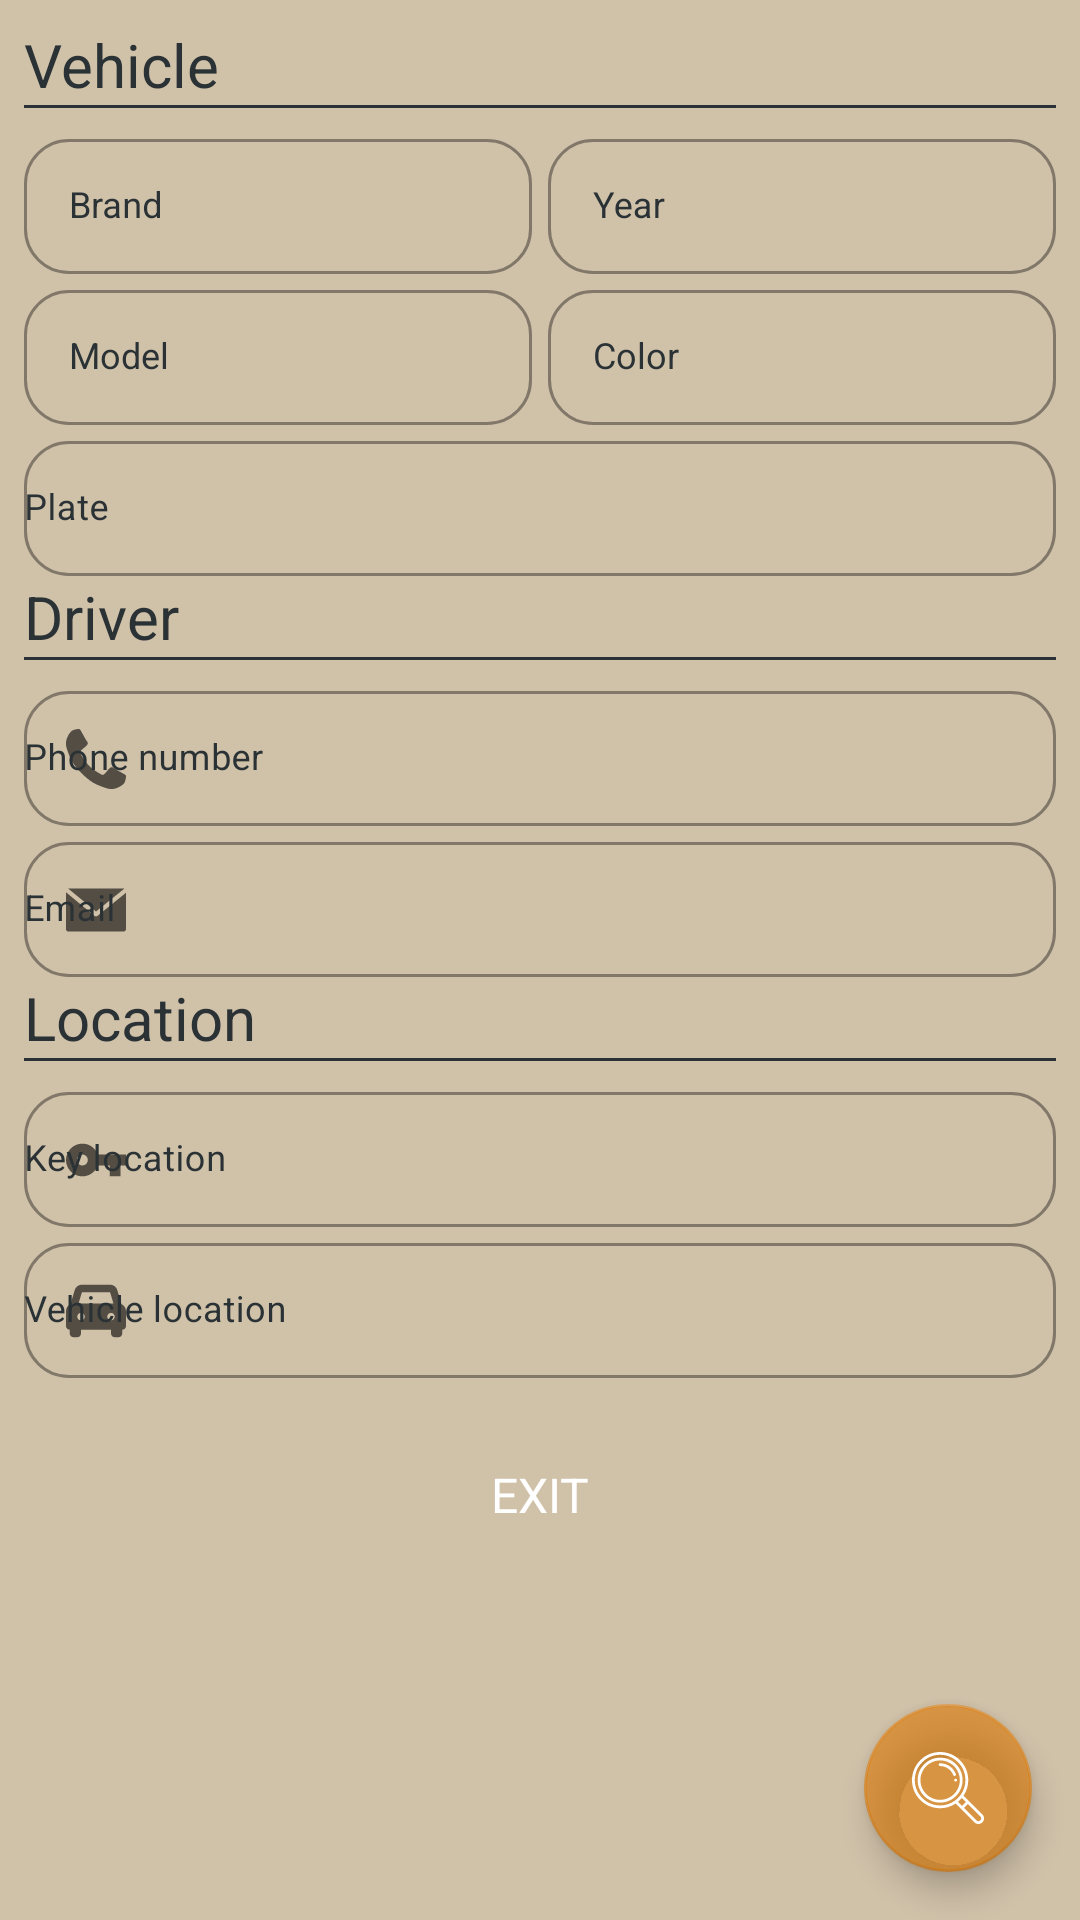

Named icons in this screenshot (1080px×1920px) and their bounding boxes, (x1, y1, x2, y2):
search: (864, 1704, 1032, 1872)
